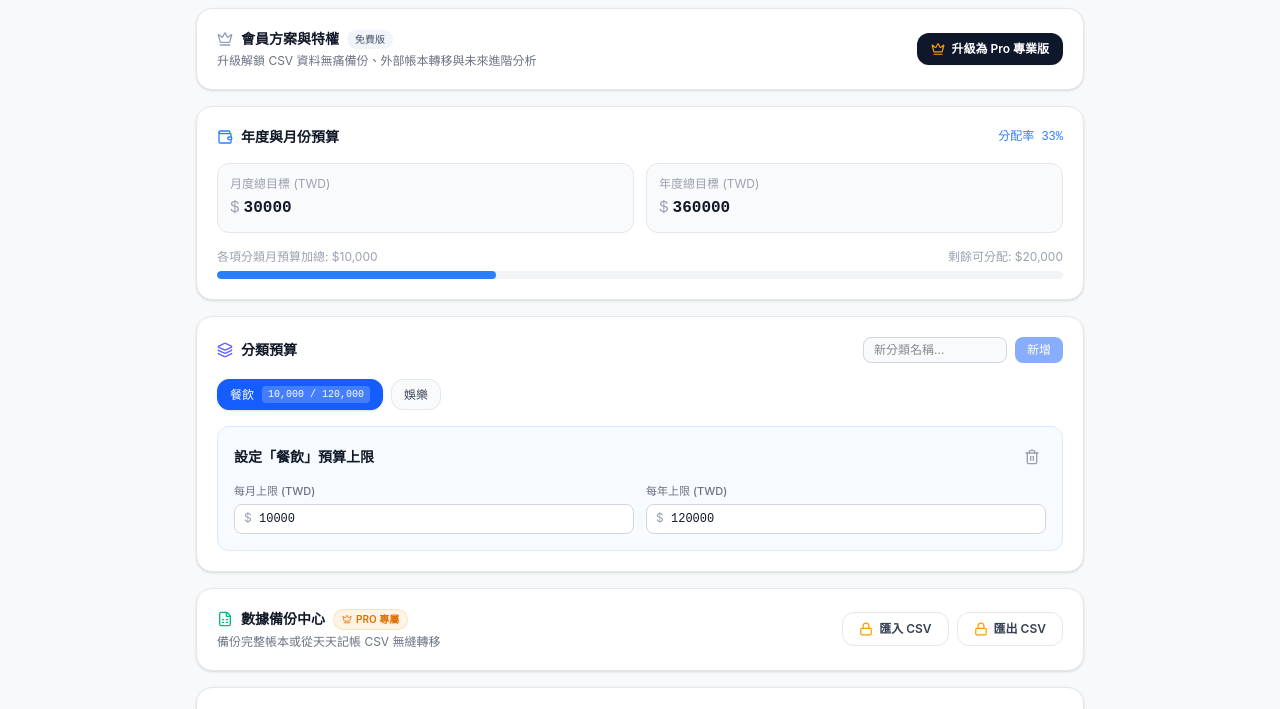
SettingsView 手感與動畫測試 (emil-design-eng) › 支出分類矩陣：點擊標籤膠囊切換選中分類，抽屜即時顯示月與年預算欄位
The image size is (1280, 709).
Check: the text "娛樂" is shown, box [404,387,428,403]
Note: 點擊「娛樂」切換
What coordinates should you click on to do the following:
click the button "娛樂"
I would click on:
 (416, 395)
Its box is [391,379,441,410].
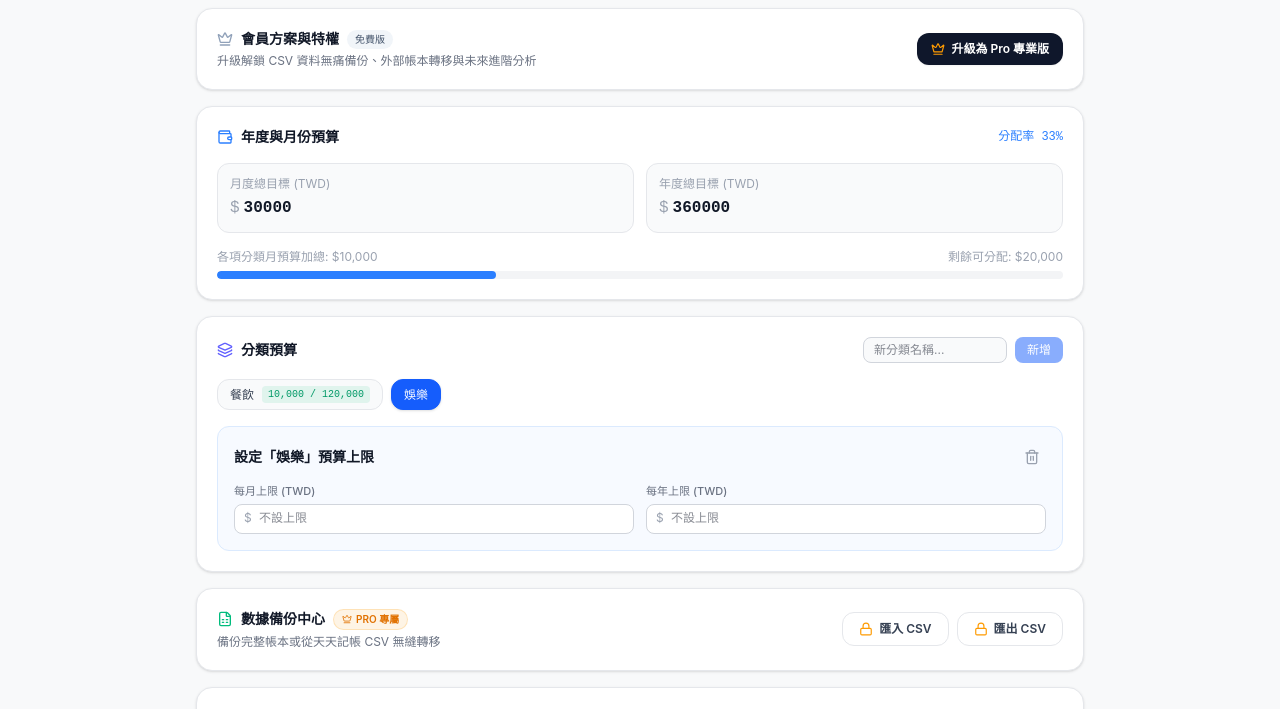
Check: the text "每月上限 (TWD)" is shown, box [234,484,315,498]
Check: the text "設定「娛樂」預算上限" is shown, box [234,447,374,467]
